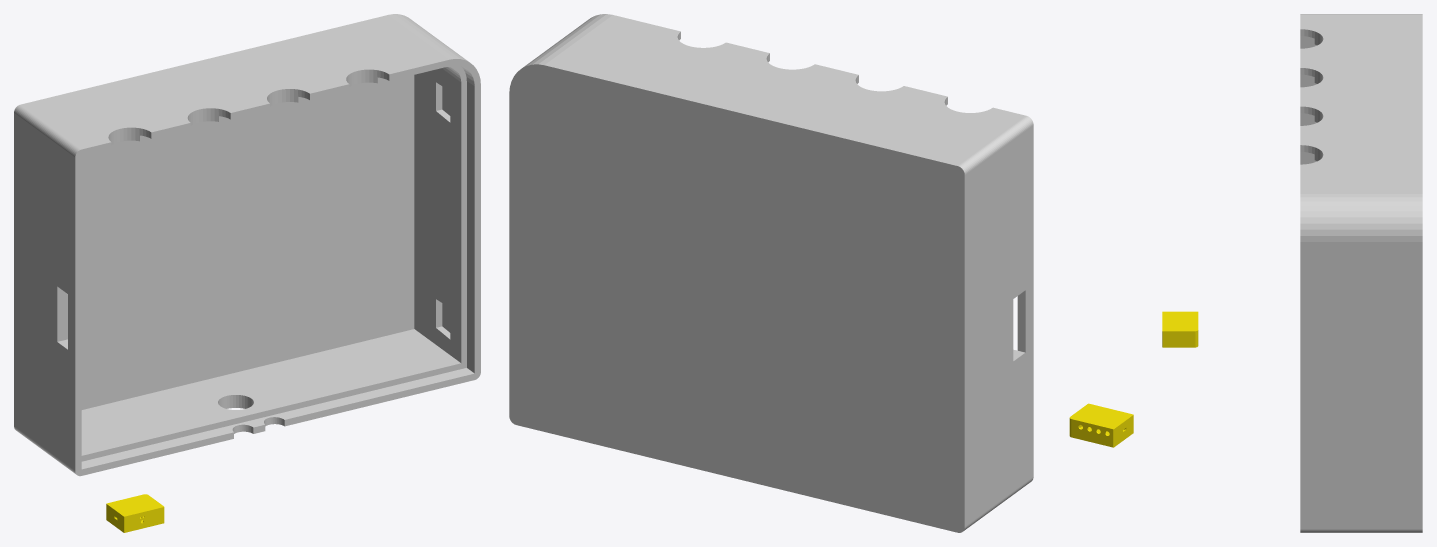
File: animation2.gltf
3 views of the same model, side by side, from view 1: azimuth 30°, elevation 25°; view 2: azimuth 150°, elevation 25°; view 3: azimuth 270°, elevation 25° (orthographic). The views are drawn at different scales.
Parts seen in each view (by area): view 1: low, up, low.001; view 2: low, up, low.001; view 3: low, up, low.001.
Part boxes in pixels (x1=…): low: x1=14, y1=14, x2=480, y2=476; up: x1=106, y1=494, x2=164, y2=521; low.001: x1=106, y1=509, x2=164, y2=532; low: x1=509, y1=14, x2=1033, y2=532; up: x1=1069, y1=403, x2=1133, y2=434; low.001: x1=1069, y1=421, x2=1133, y2=447; low: x1=1300, y1=14, x2=1422, y2=532; up: x1=1162, y1=311, x2=1198, y2=336; low.001: x1=1162, y1=335, x2=1198, y2=347.
Bounding box in the file's own units: 68.25 × 50 × 36.18.
